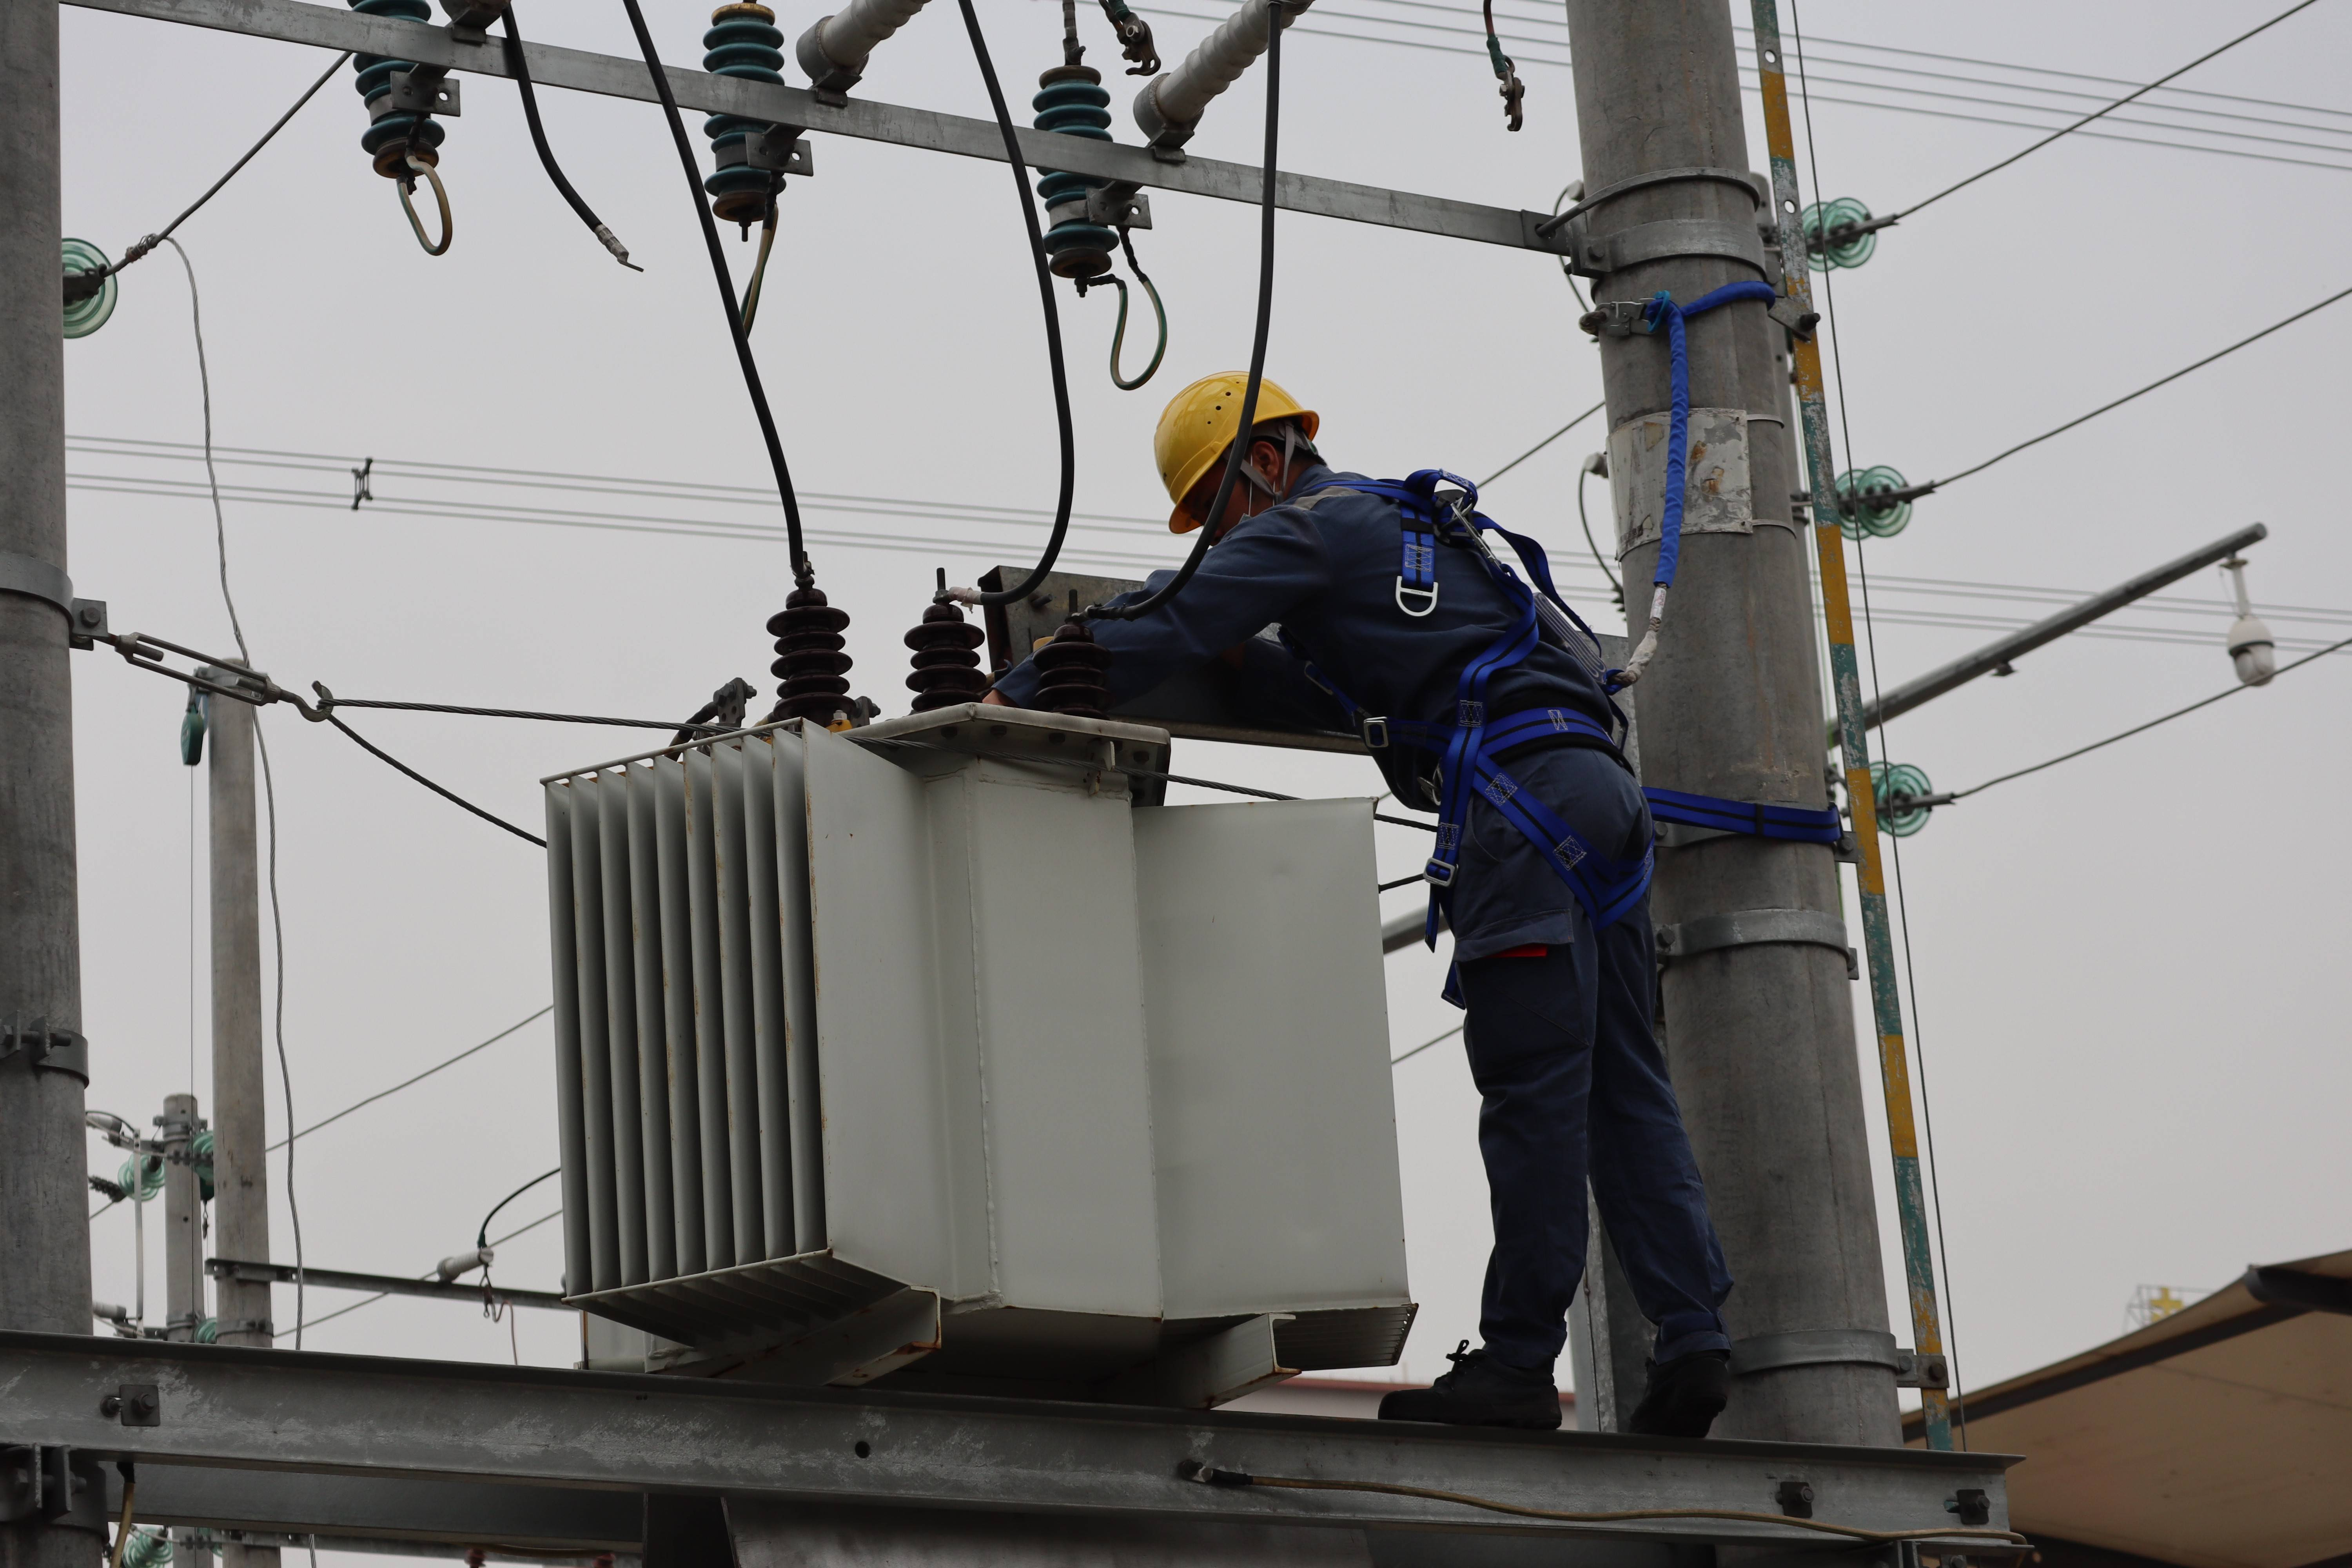downsuit: (1416, 768, 1741, 1361)
upsuit: (1027, 474, 1640, 779)
